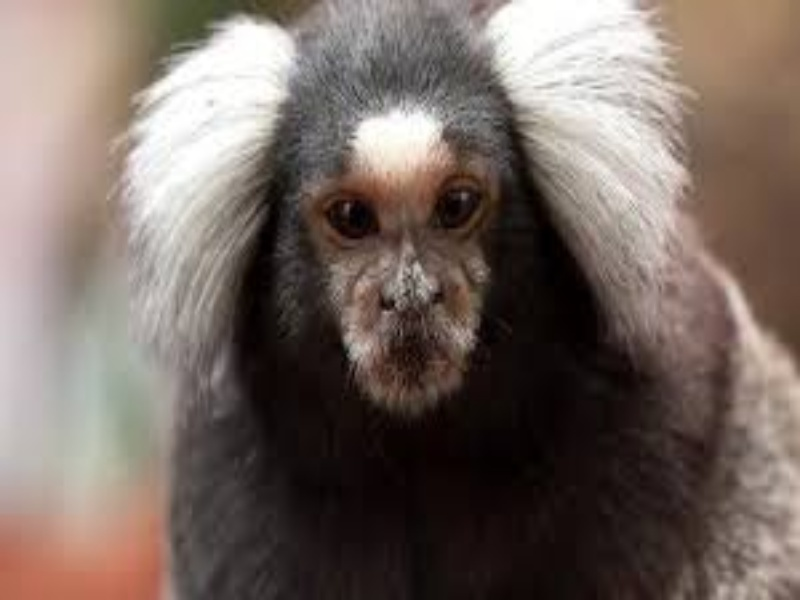monkey: (121, 3, 728, 590)
